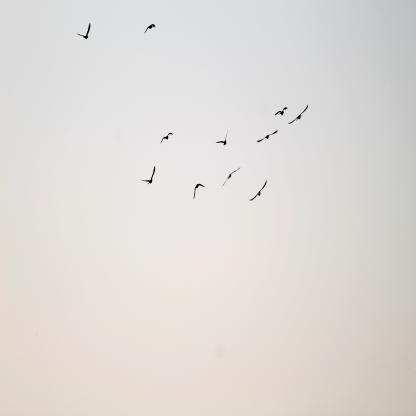bird: (223, 168, 241, 186), (290, 107, 307, 126), (251, 182, 266, 201), (142, 168, 157, 186), (78, 23, 92, 40), (258, 131, 278, 142), (193, 183, 206, 197), (160, 132, 174, 144), (215, 134, 227, 146), (144, 23, 156, 34), (275, 107, 289, 116)
